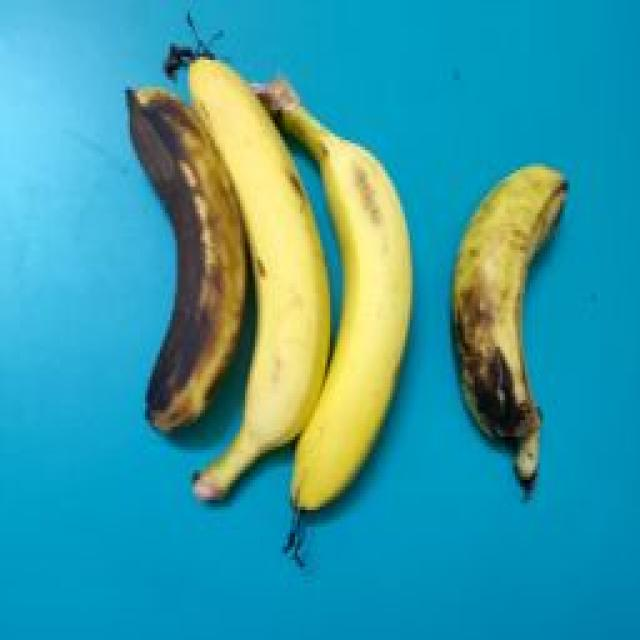Organik: (266, 62, 436, 574), (173, 37, 333, 539), (104, 81, 249, 436), (448, 131, 582, 502)
